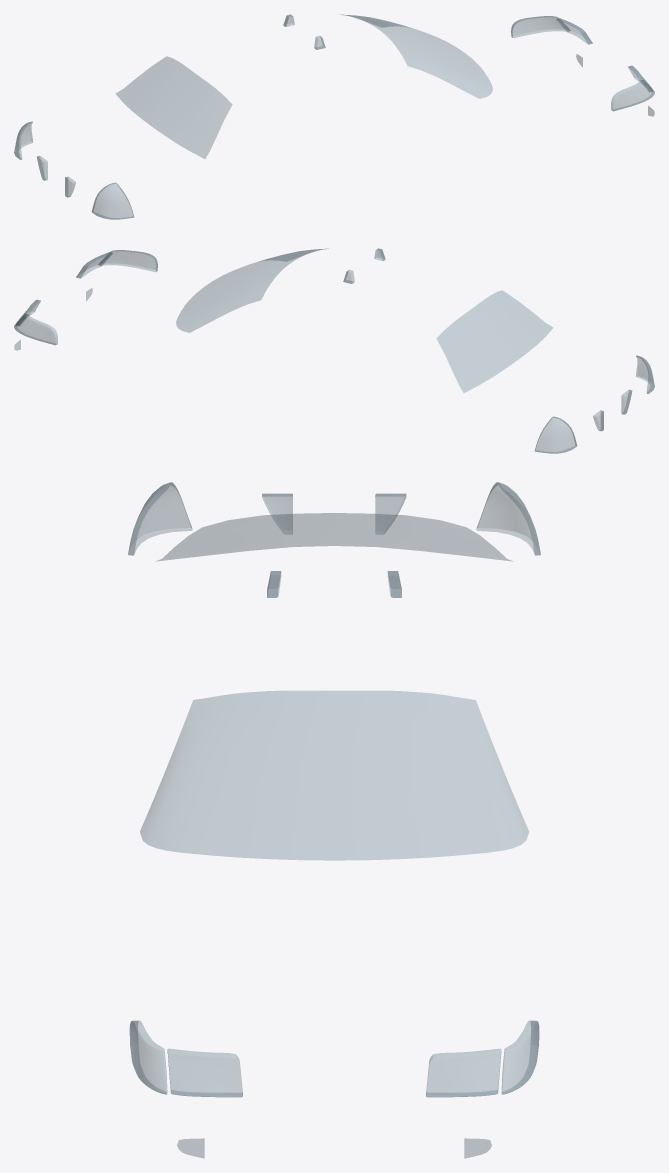
3 views of the same model, one above another, from view 1: azimuth 30°, elevation 25°; view 2: azimuth 150°, elevation 25°; view 3: azimuth 270°, elevation 25° (orthographic). The views are drawn at different scales.
Visible parts, largest first — view 1: SM_FordCrown02_Glass_Int2; view 2: SM_FordCrown02_Glass_Int2; view 3: SM_FordCrown02_Glass_Int2.
Boxes of the visible parts, box(x1,y1,x2,y2) form: SM_FordCrown02_Glass_Int2: box(14, 14, 654, 219); SM_FordCrown02_Glass_Int2: box(14, 248, 654, 453); SM_FordCrown02_Glass_Int2: box(128, 482, 540, 1158).
Size of the model in its own units: 5.13 by 1.23 by 1.63.
